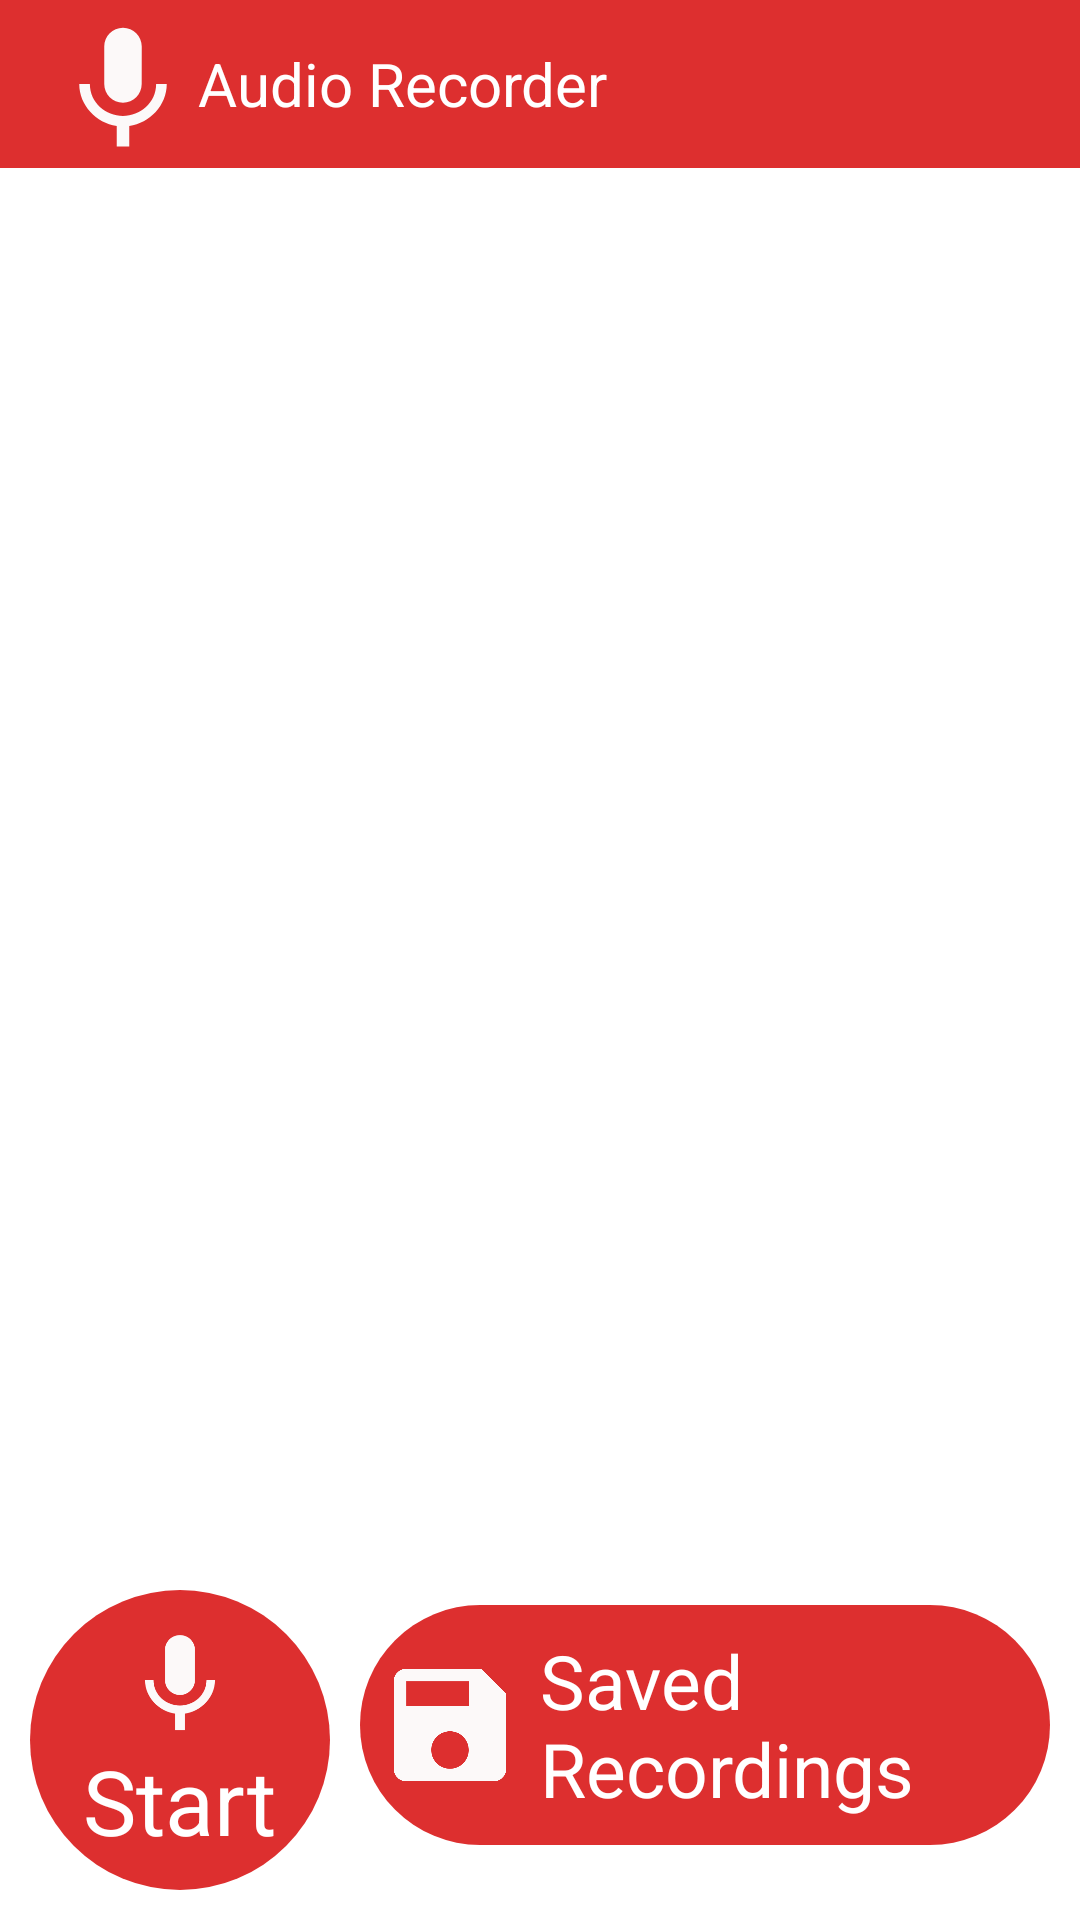

Named icons in this screenshot (1080px x 1920px) and their centers, [x,y]:
keyboard voice: [123,87], [180,1682]
